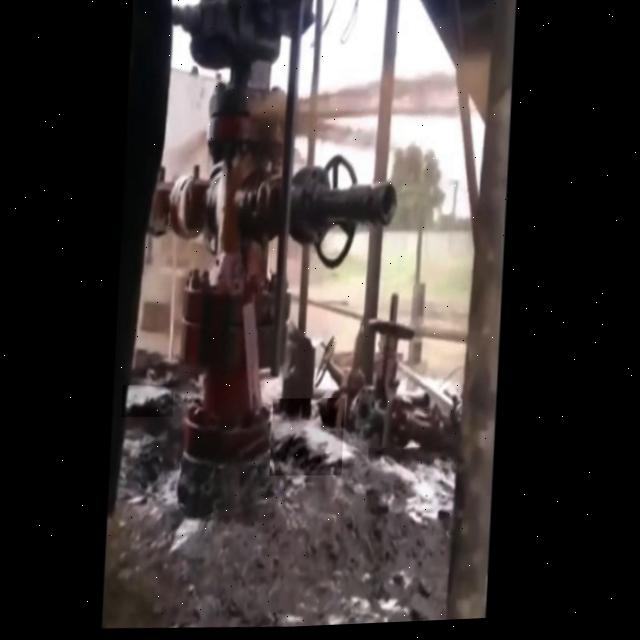spillage: (366, 451, 462, 538), (271, 402, 345, 478), (123, 386, 174, 417)
